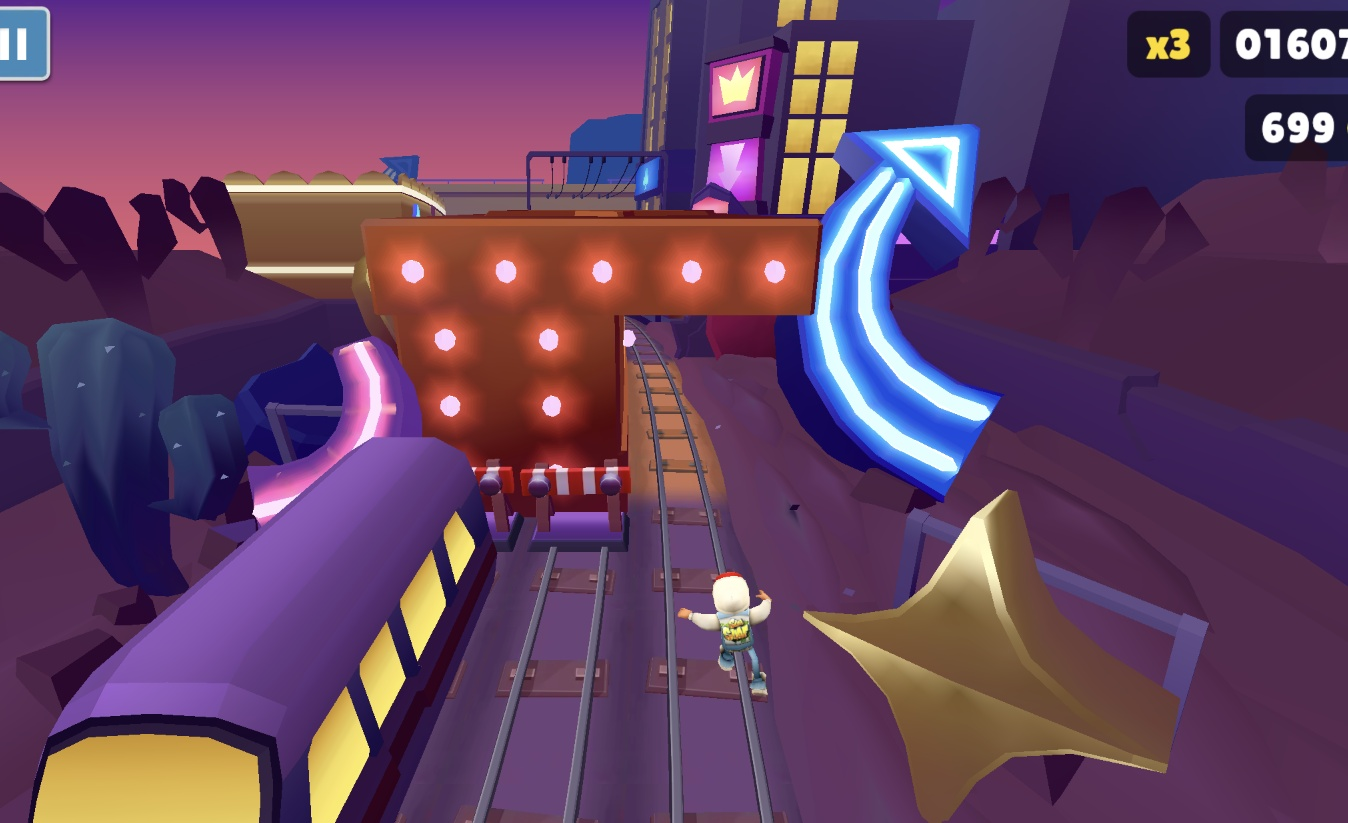ground_barrier: (522, 466, 634, 543)
pillar: (421, 310, 617, 473)
train: (20, 440, 475, 823)
